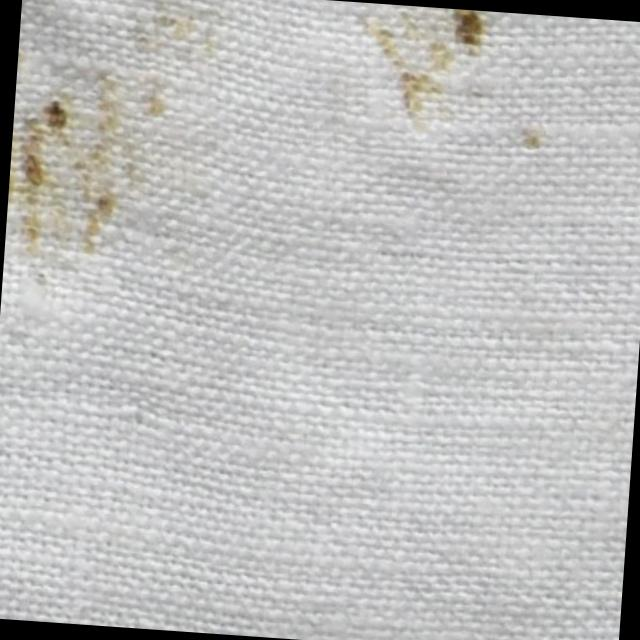Stain: (2, 0, 219, 283), (334, 0, 486, 111), (508, 111, 552, 160)
